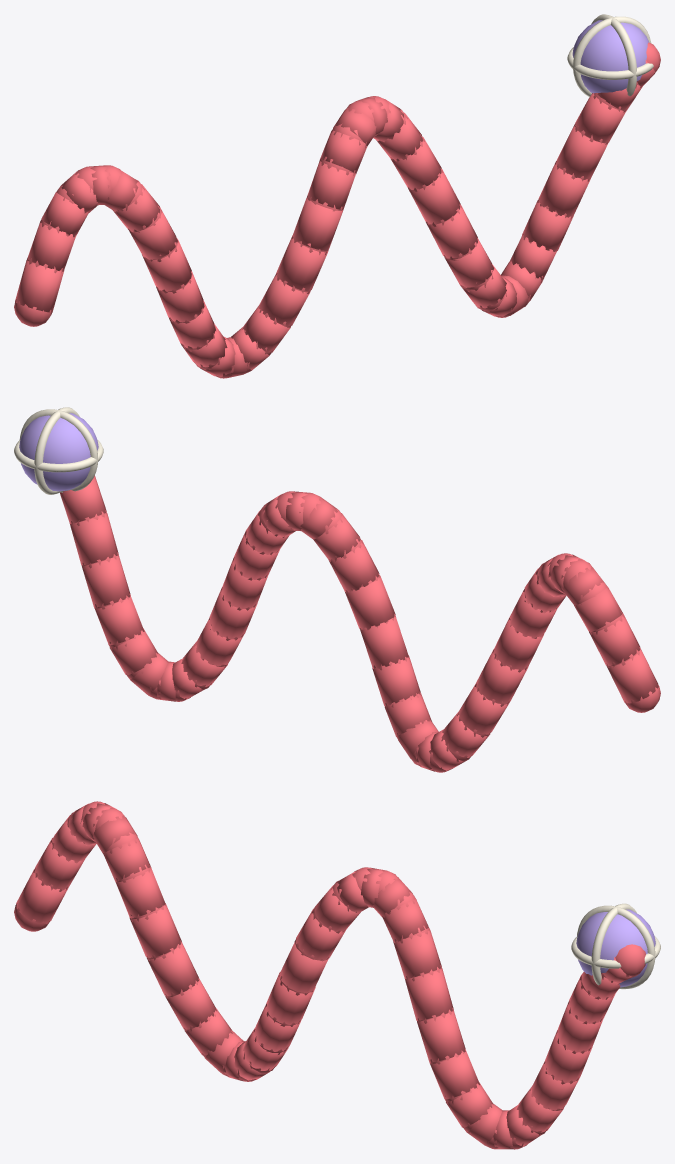
The model's file is WalkingLeashMoving_Premium.fbx.
The picture shows the model from 3 angles, top to bottom: view 1: azimuth 30°, elevation 25°; view 2: azimuth 150°, elevation 25°; view 3: azimuth 330°, elevation 25°; orthographic projection.
Visible parts, largest first — view 1: WalkingLeash_Moving; view 2: WalkingLeash_Moving; view 3: WalkingLeash_Moving.
Boxes of the visible parts, left/top/right/bottom form: WalkingLeash_Moving: left=14, top=14, right=660, bottom=378; WalkingLeash_Moving: left=14, top=407, right=660, bottom=772; WalkingLeash_Moving: left=14, top=801, right=660, bottom=1149.
Size of the model in its own units: 0.6248 by 0.2495 by 0.0766.
